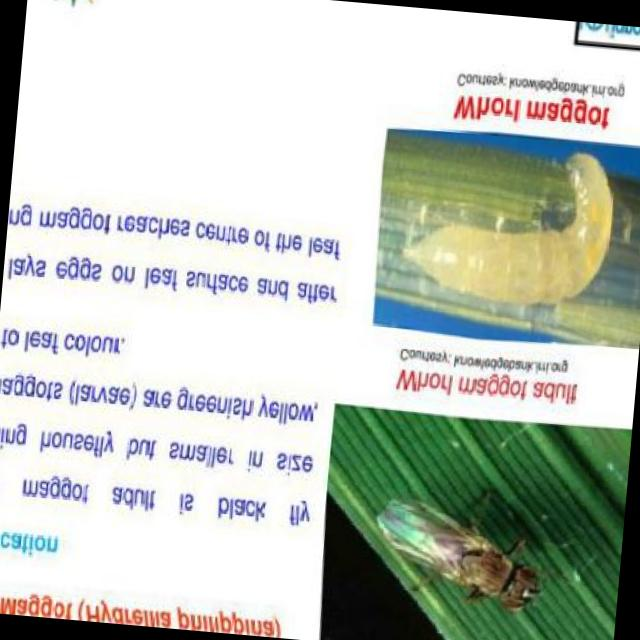whorl-maggot: (388, 139, 622, 313)
